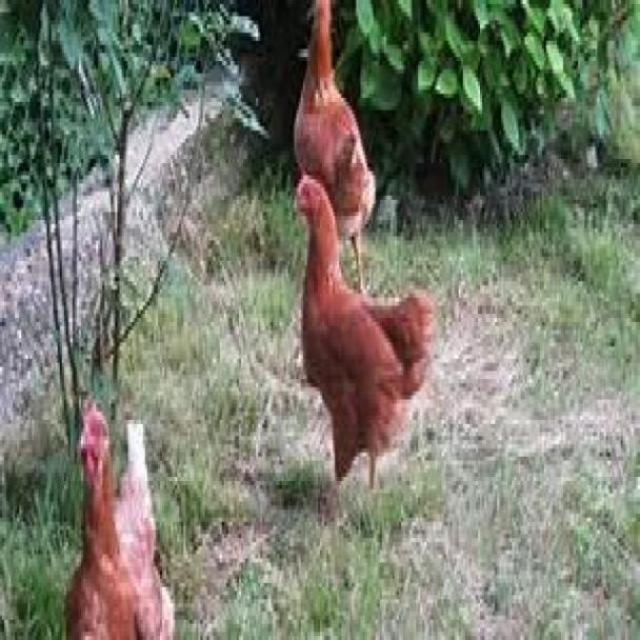Chicken: (294, 179, 433, 490), (64, 403, 175, 640), (295, 0, 376, 294)
